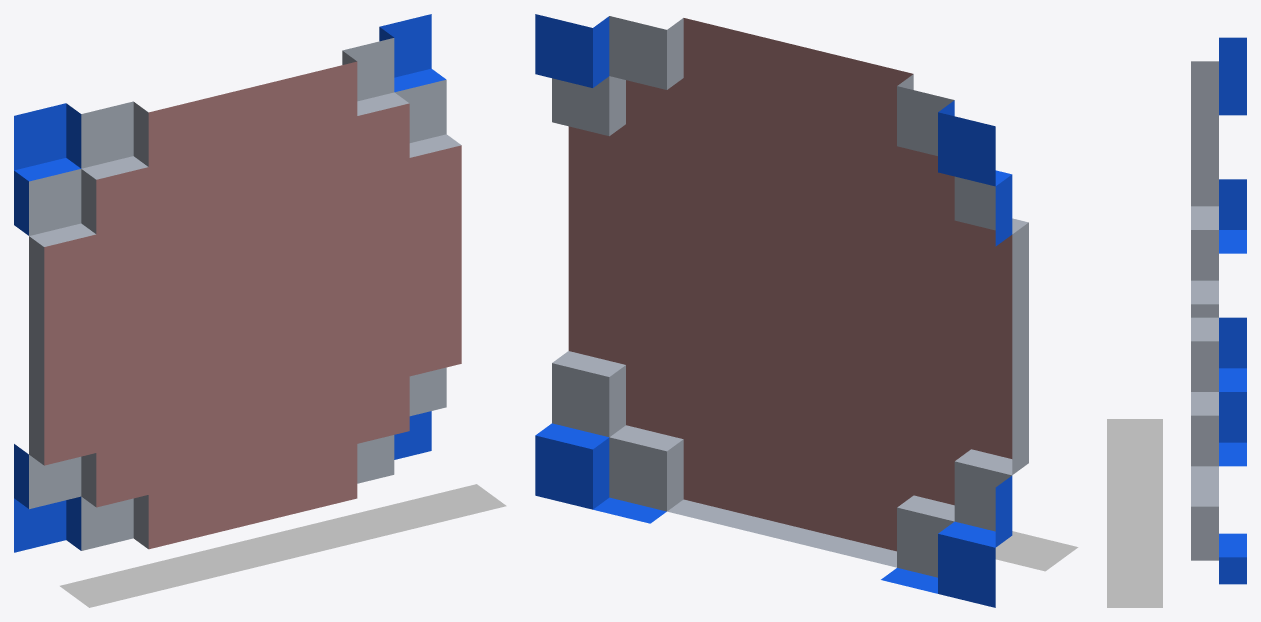
The model's file is cell_12.obj.
3 views of the same model, side by side, from view 1: azimuth 30°, elevation 25°; view 2: azimuth 150°, elevation 25°; view 3: azimuth 270°, elevation 25° (orthographic). The views are drawn at different scales.
Bounding box in the file's own units: 1 × 1 × 0.3125.
